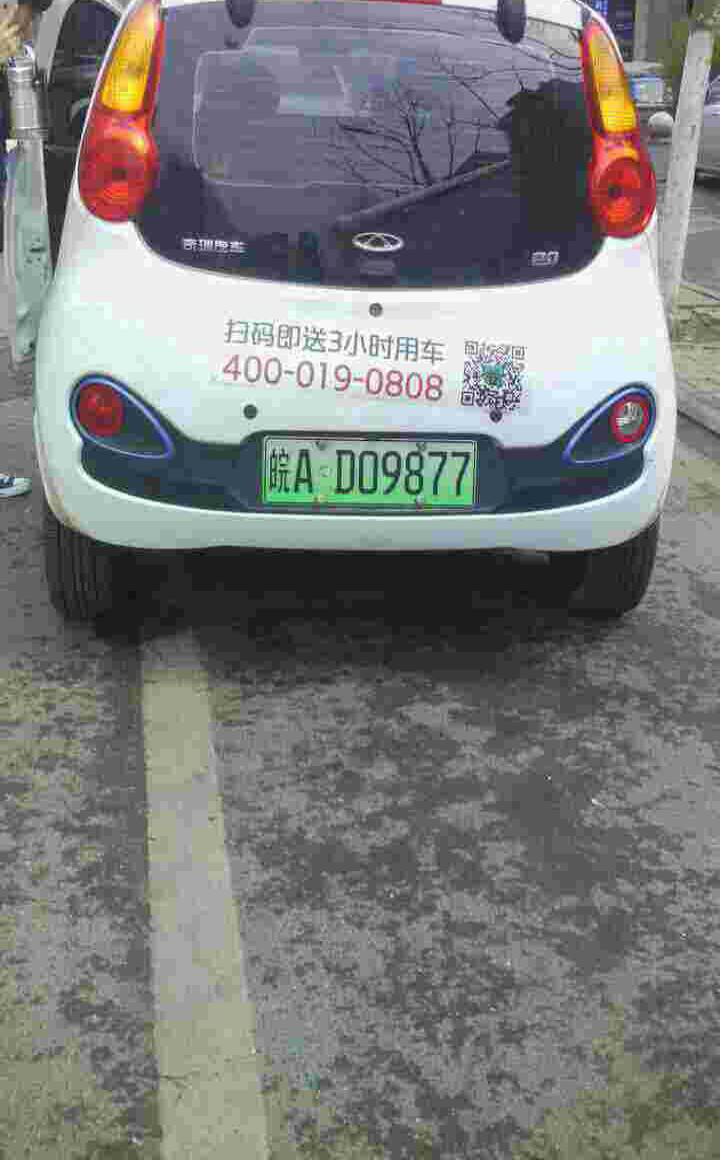car_id: (262, 432, 475, 504)
